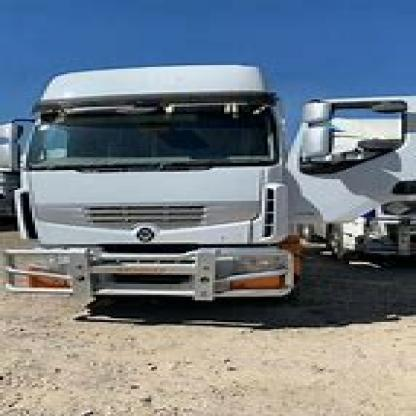dump_truck: (6, 60, 413, 318)
